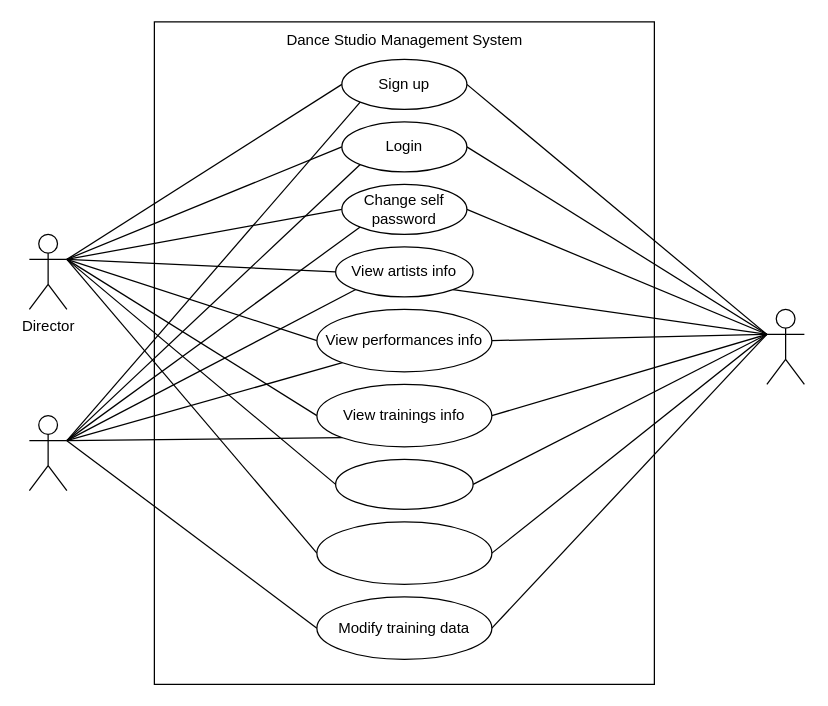
This 828x706 diagram has some shape labels left out. Each missing label, with the centre of its shape:
Admin: pixel 785 346
Coach: pixel 47 452
Modify artist data: pixel 403 483
Modify Performances data: pixel 404 552
